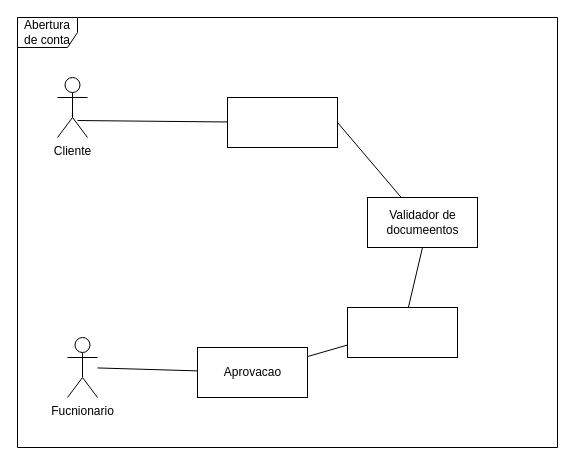
Image size: 575x465. Some labels were removed from this diagram. Here are the shapes that lost their labels. From the top down, the centre of each, then its label:
(282,122): Sistema Abertura de conta
(402,332): Antifraude
